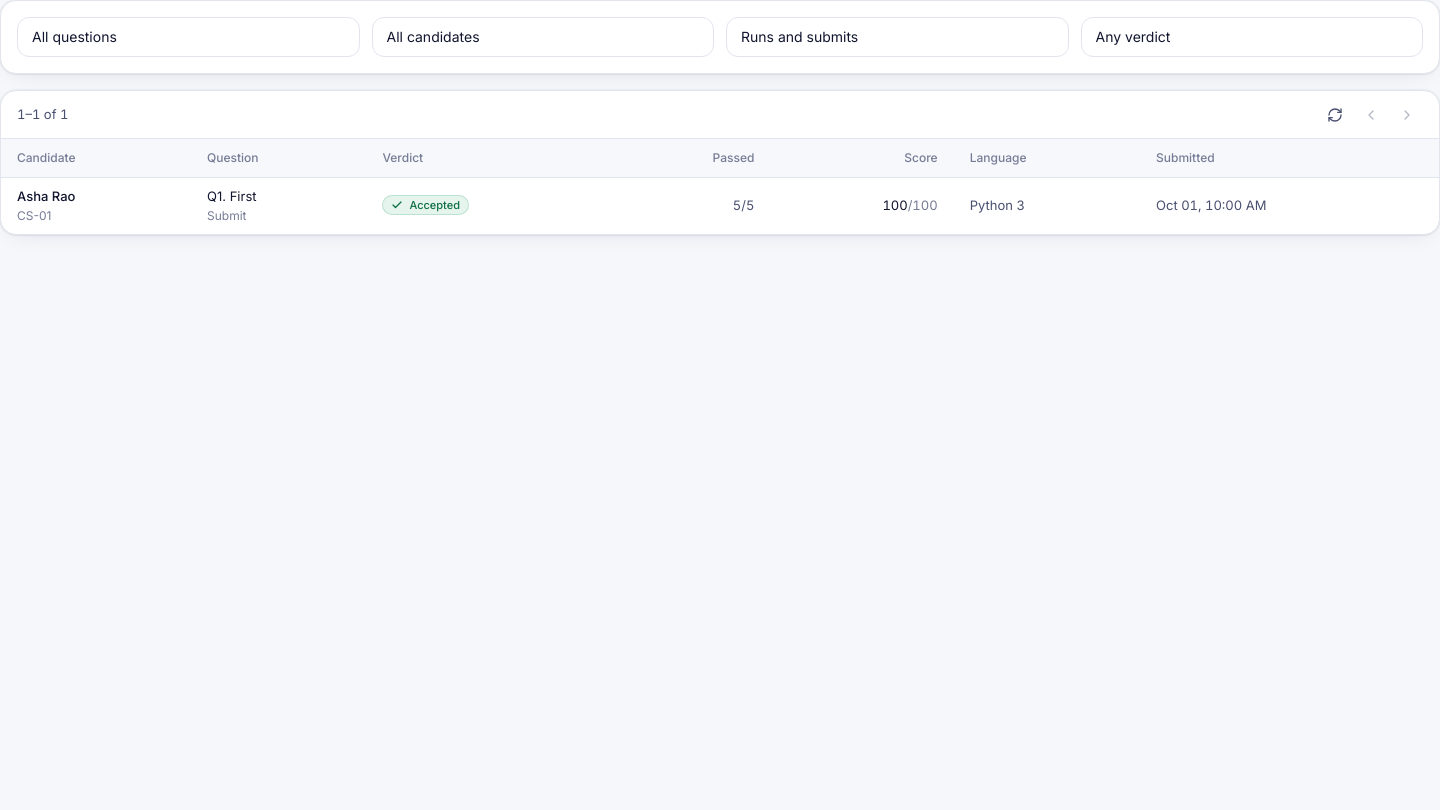
Test: ContestSubmissionsPanel › opens the detail sheet on row click
This screenshot has width=1440, height=810.
Click the row named "open submission by asha rao" at (46, 196), box [1,178,1439,234]
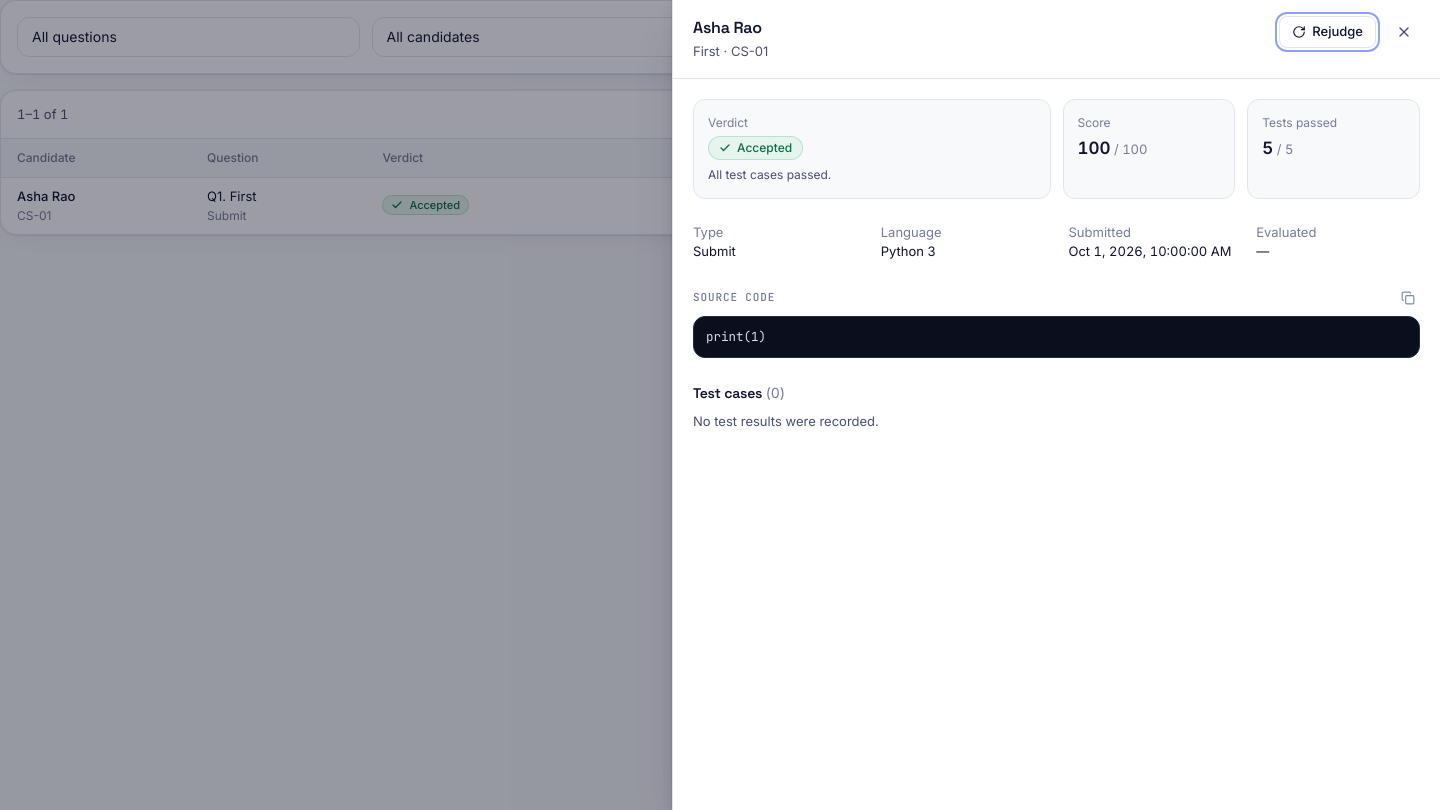
Check: the dialog is shown, box [672,0,1439,809]
Check: the text "print(1)" is shown, box [693,316,1420,358]
Check: the button "Rejudge" is shown, box [1279,16,1376,48]
